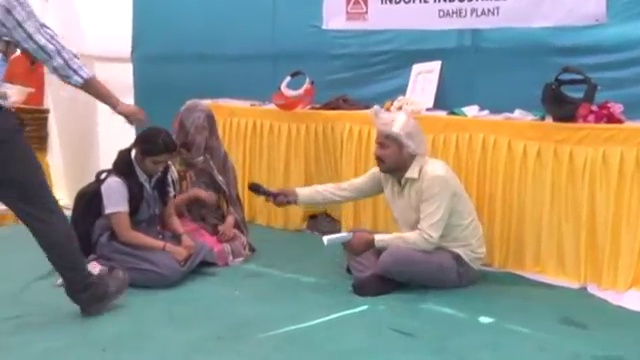helmet: (0, 83, 33, 105)
helmet_off: (362, 110, 426, 179), (126, 122, 178, 186), (170, 102, 221, 165)
person: (0, 7, 143, 324), (268, 104, 488, 296), (66, 123, 211, 292), (164, 101, 245, 262)
